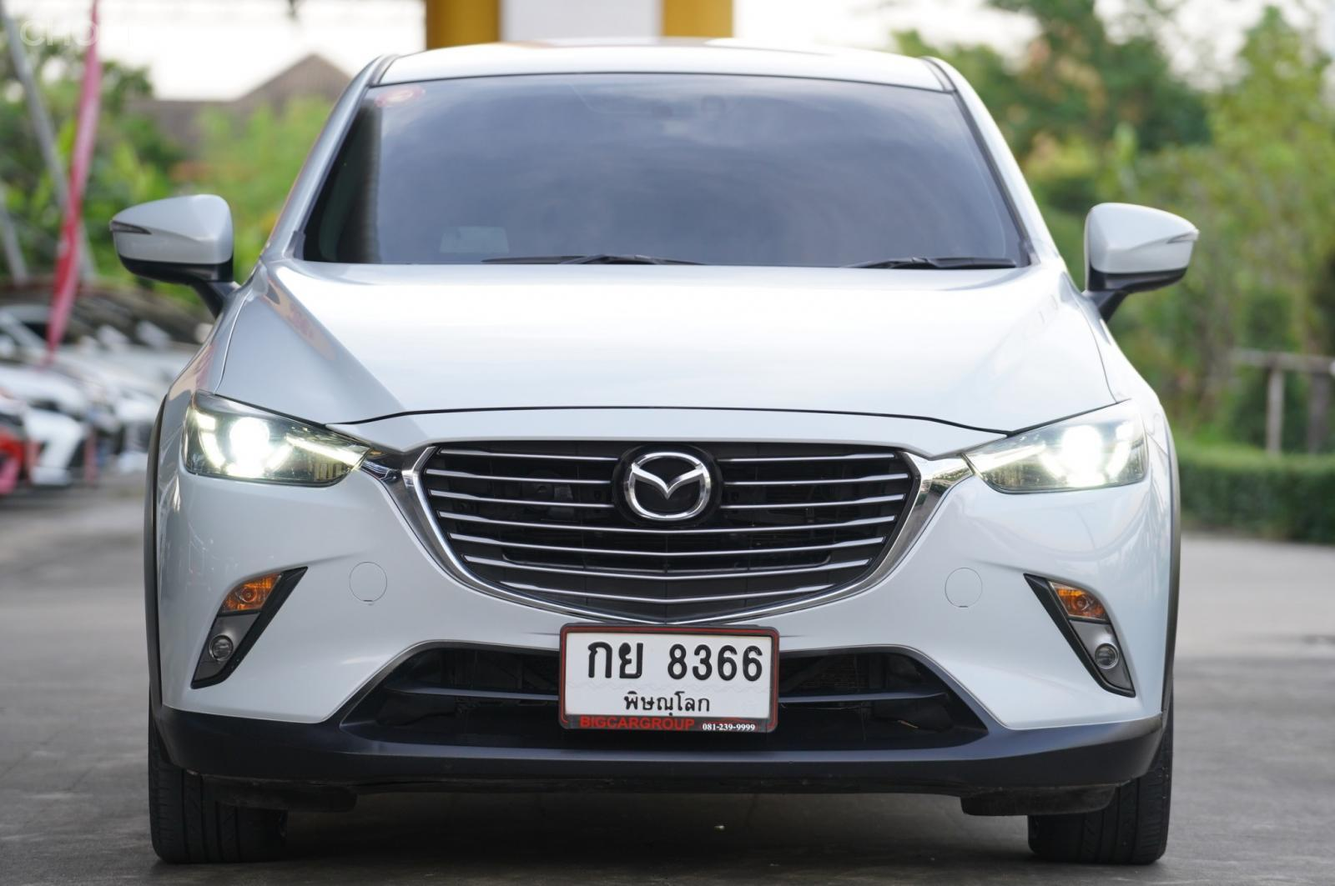license-plate: (562, 624, 779, 734)
